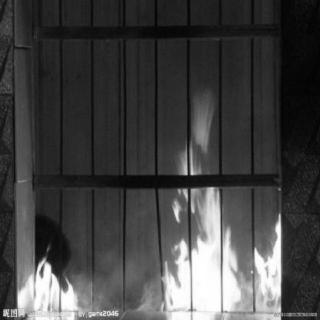Fire: (250, 205, 282, 307)
